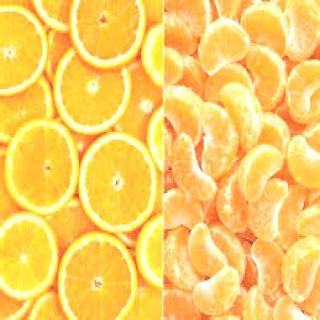orange: (0, 97, 92, 226), (77, 126, 160, 240), (158, 127, 220, 205)
